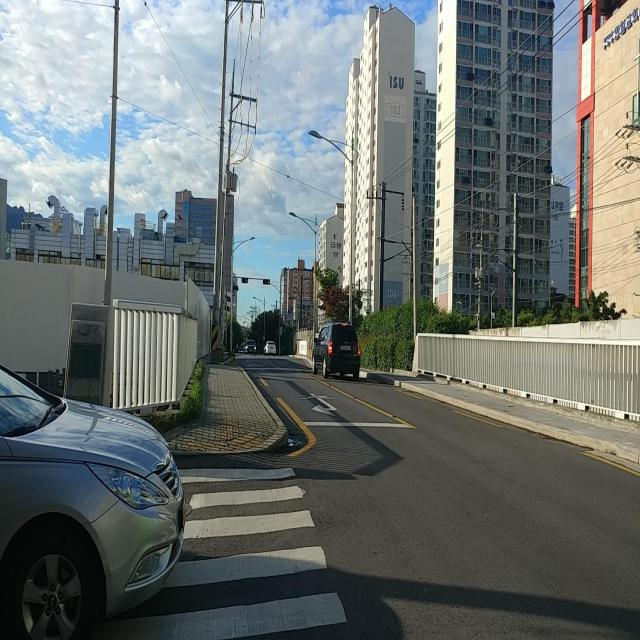횡단보도: (88, 464, 350, 640)
